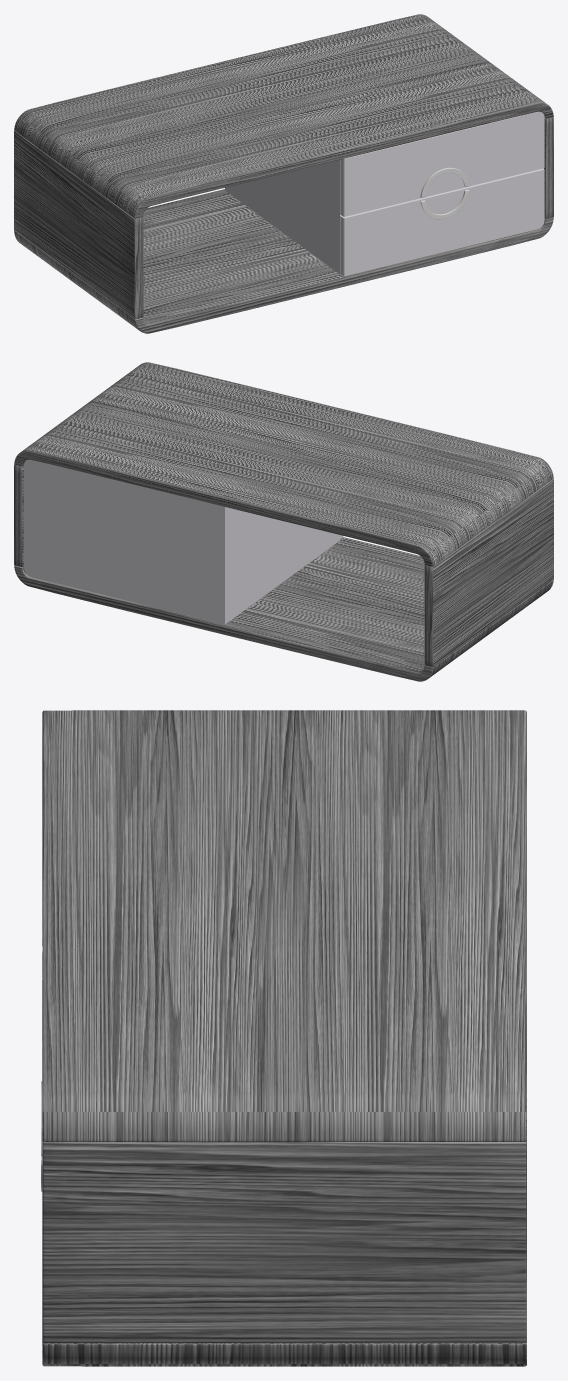
Rendered from teapoy2.glb.
3 views of the same model, one above another, from view 1: azimuth 30°, elevation 25°; view 2: azimuth 150°, elevation 25°; view 3: azimuth 270°, elevation 25° (orthographic). The views are drawn at different scales.
Visible parts, largest first — view 1: Tea Table; view 2: Tea Table; view 3: Tea Table.
Boxes of the visible parts, x1=… form: Tea Table: x1=14, y1=14, x2=553, y2=333; Tea Table: x1=14, y1=362, x2=553, y2=681; Tea Table: x1=41, y1=710, x2=526, y2=1366.
Bounding box in the file's own units: 7.32 × 2.44 × 3.67.
3 materials, 1 textured.
